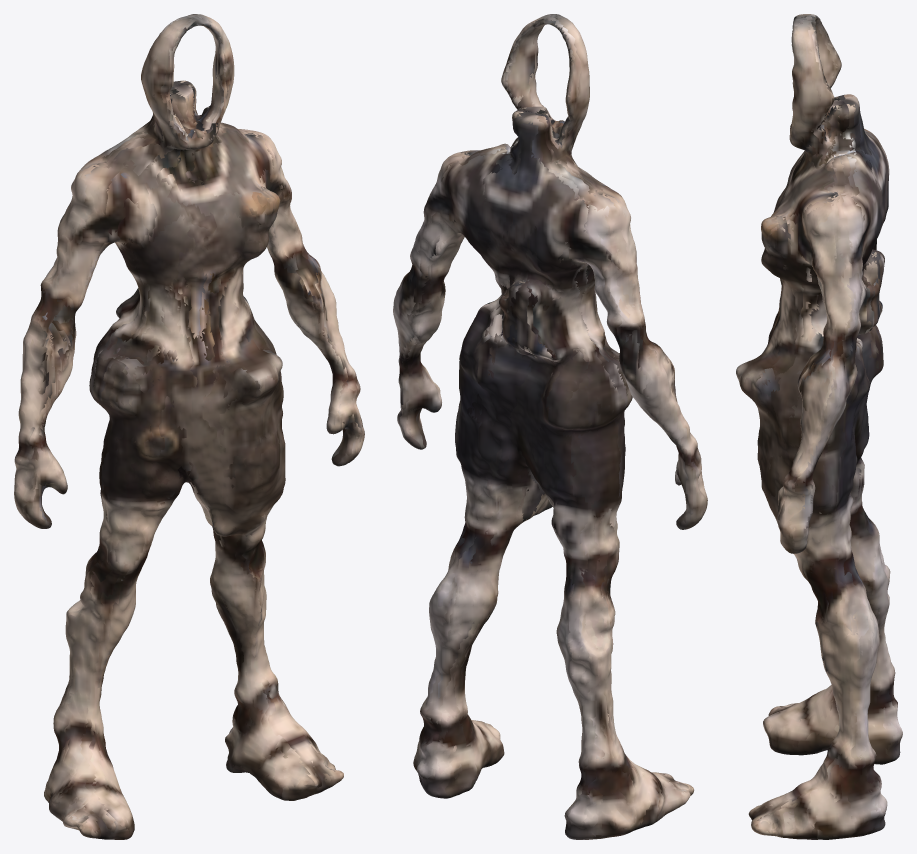
Rendered from halo_construct.glb.
3 renders of one model, left to right at view 1: azimuth 30°, elevation 25°; view 2: azimuth 150°, elevation 25°; view 3: azimuth 270°, elevation 25°, orthographic. The views are drawn at different scales.
Visible parts, largest first — view 1: world; view 2: world; view 3: world.
Boxes of the visible parts, left/top/right/bottom form: world: left=14, top=14, right=364, bottom=839; world: left=393, top=14, right=707, bottom=839; world: left=736, top=14, right=902, bottom=839.
Bounding box in the file's own units: 0.8003 × 1.85 × 0.3601.
1 material, 1 textured.
